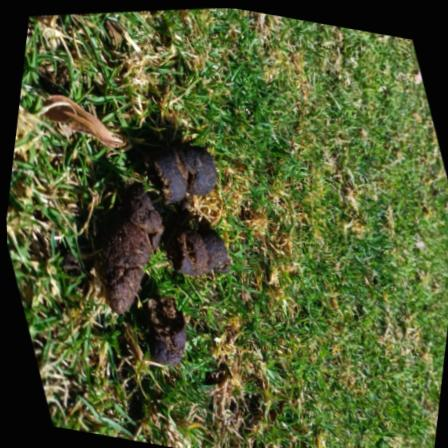dog-poop: (72, 117, 246, 381)
